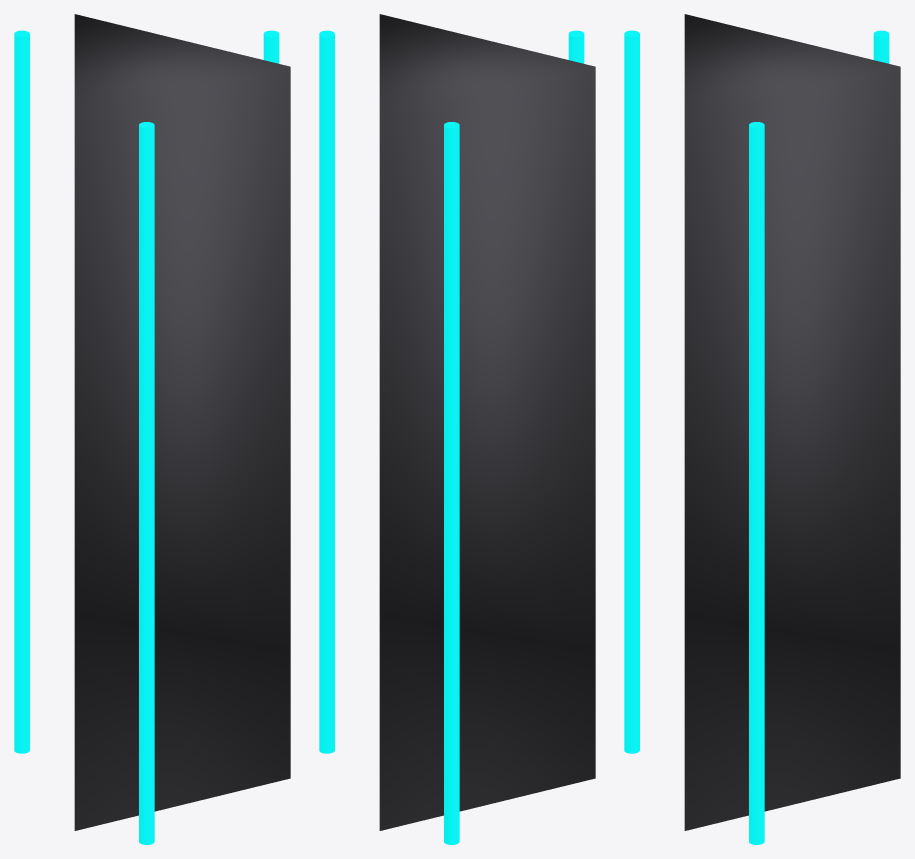
File: PrismMonolith.glb
3 renders of one model, left to right at view 1: azimuth 30°, elevation 25°; view 2: azimuth 150°, elevation 25°; view 3: azimuth 270°, elevation 25°, orthographic.
Parts seen in each view (by area): view 1: PrismMonolith, PrismSeam_1, PrismSeam_2, PrismSeam_0; view 2: PrismMonolith, PrismSeam_0, PrismSeam_1, PrismSeam_2; view 3: PrismMonolith, PrismSeam_2, PrismSeam_0, PrismSeam_1.
Part boxes in pixels (x1,y1,x2,y2): PrismMonolith: (74,14,290,830); PrismSeam_1: (14,30,29,753); PrismSeam_2: (139,122,154,844); PrismSeam_0: (263,30,279,63); PrismMonolith: (379,14,595,830); PrismSeam_0: (319,30,334,753); PrismSeam_1: (444,122,459,844); PrismSeam_2: (568,30,584,63); PrismMonolith: (684,14,900,830); PrismSeam_2: (624,30,639,753); PrismSeam_0: (749,122,764,844); PrismSeam_1: (873,30,889,63).
Size of the model in its own units: 1.06 by 3.02 by 1.06.
